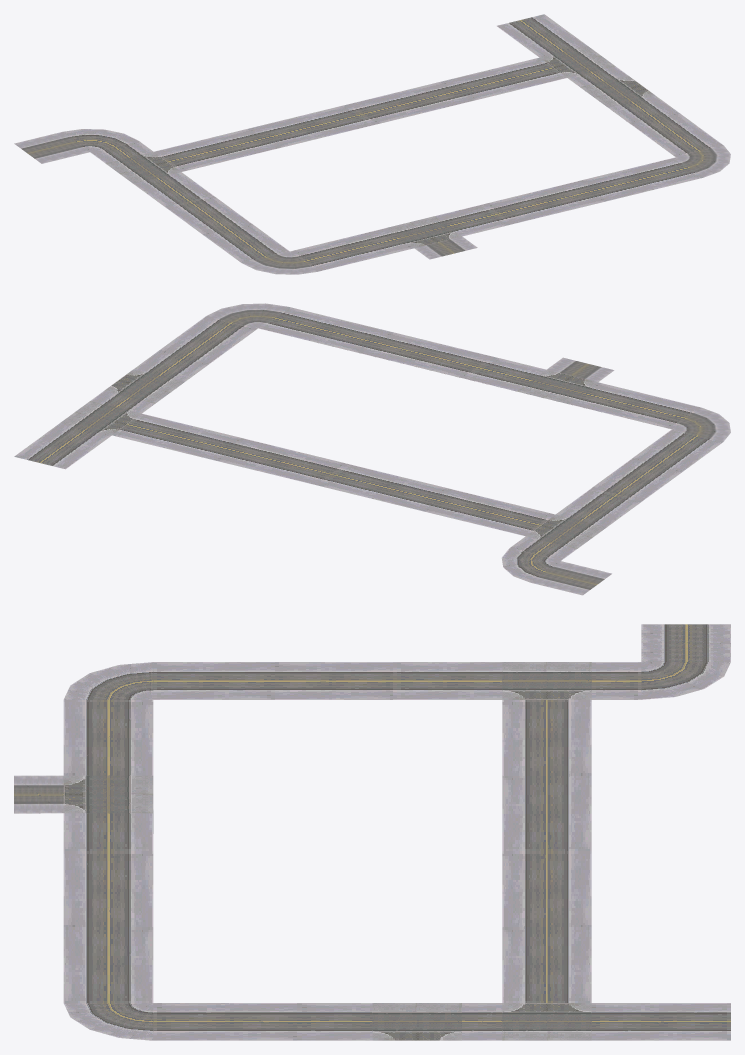
File: lodaswedge15.obj
3 views of the same model, one above another, from view 1: azimuth 30°, elevation 25°; view 2: azimuth 150°, elevation 25°; view 3: azimuth 270°, elevation 25° (orthographic). The views are drawn at different scales.
Visible parts, largest first — view 1: lodasWedge15; view 2: lodasWedge15; view 3: lodasWedge15.
Boxes of the visible parts, left/top/right/bottom form: lodasWedge15: left=14, top=14, right=730, bottom=274; lodasWedge15: left=14, top=303, right=730, bottom=595; lodasWedge15: left=14, top=624, right=730, bottom=1040.
Bounding box in the file's own units: 220 × 0.03 × 160.
2 materials, 2 textured.
